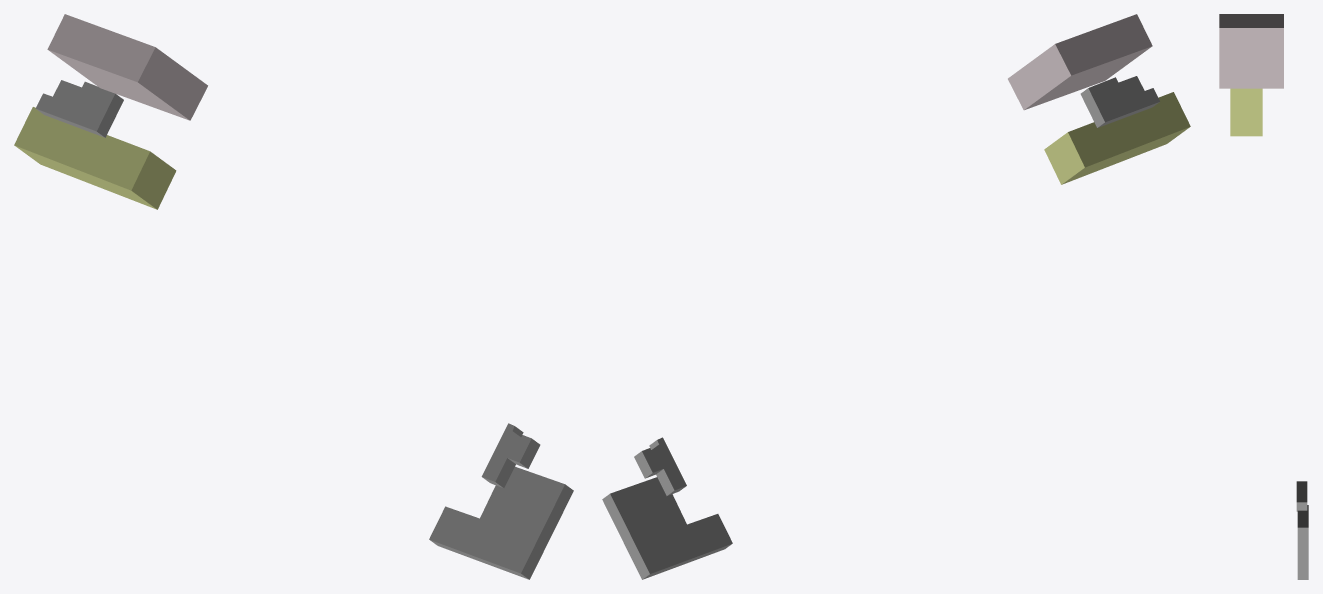
3 views of the same model, side by side, from view 1: azimuth 30°, elevation 25°; view 2: azimuth 150°, elevation 25°; view 3: azimuth 270°, elevation 25° (orthographic). The views are drawn at different scales.
Parts seen in each view (by area): view 1: 0_3_0_2_2_2_1; view 2: 0_3_0_2_2_2_1; view 3: 0_3_0_2_2_2_1.
Boxes of the visible parts, x1=… form: 0_3_0_2_2_2_1: x1=14, y1=14, x2=573, y2=579; 0_3_0_2_2_2_1: x1=602, y1=14, x2=1190, y2=579; 0_3_0_2_2_2_1: x1=1219, y1=14, x2=1308, y2=579.
Size of the model in its own units: 116 by 130 by 24.8.
